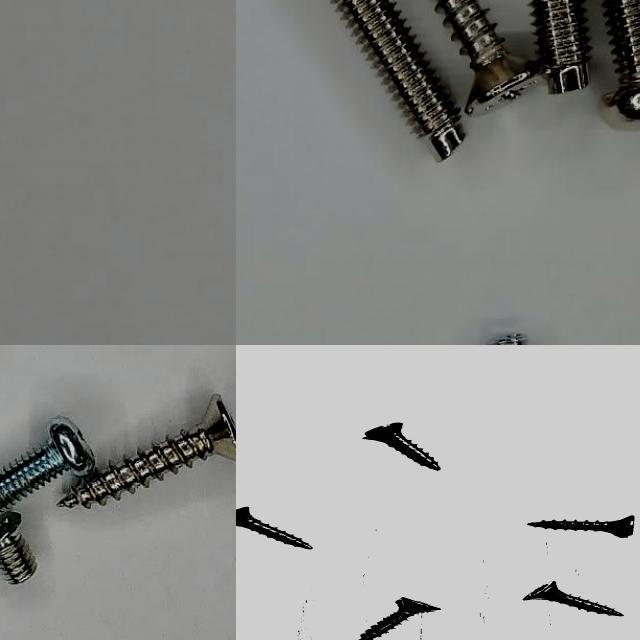Screw: (333, 0, 464, 160), (57, 397, 236, 509), (436, 0, 538, 114), (0, 417, 95, 513), (530, 0, 589, 94), (363, 422, 442, 470), (524, 581, 626, 616), (360, 597, 442, 640), (236, 507, 313, 549), (0, 512, 37, 585), (528, 515, 636, 537)
